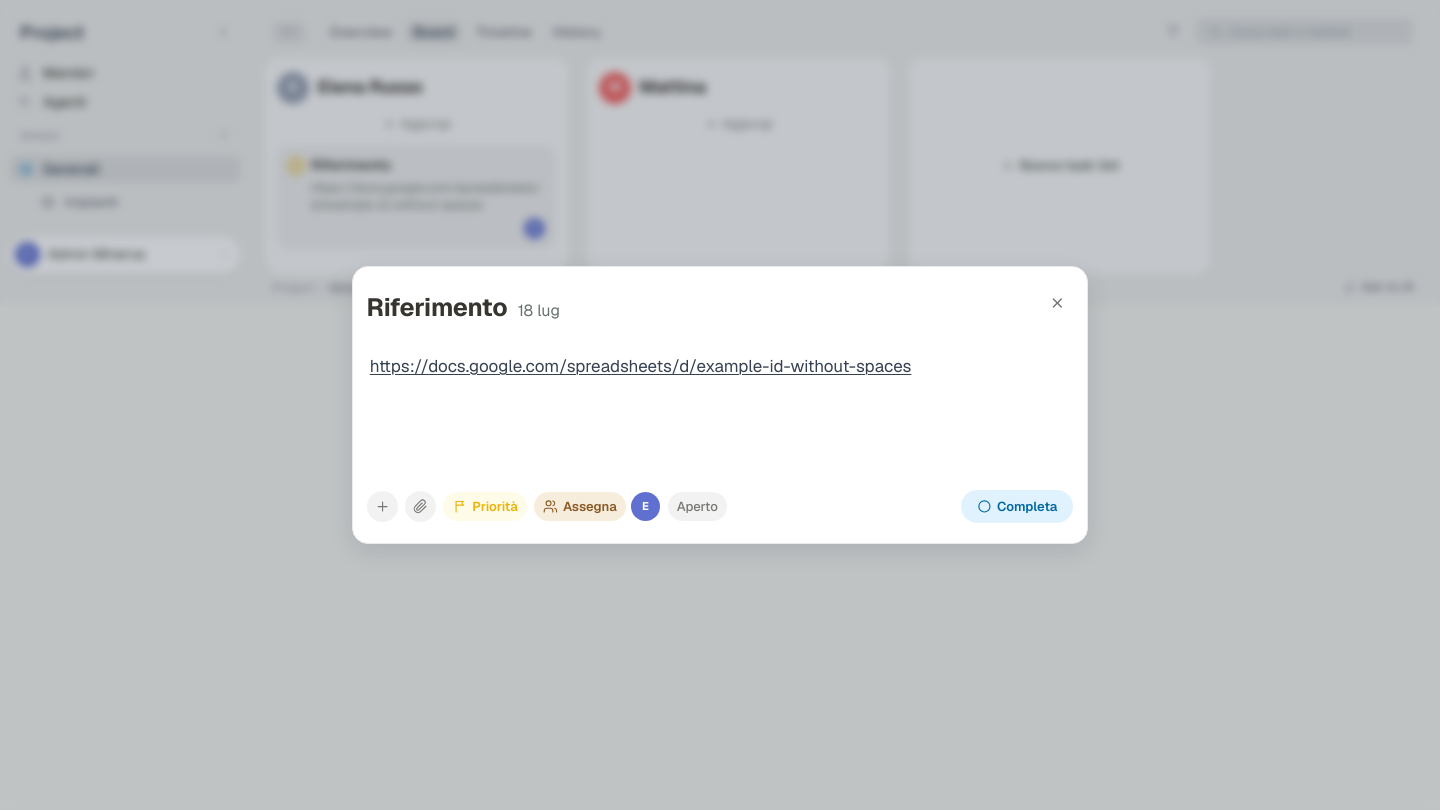
it: board shell › renders note URLs as links only in the open task detail
Click the button with aria-label "Modifica note".
click(641, 366)  # box [370,355,911,377]
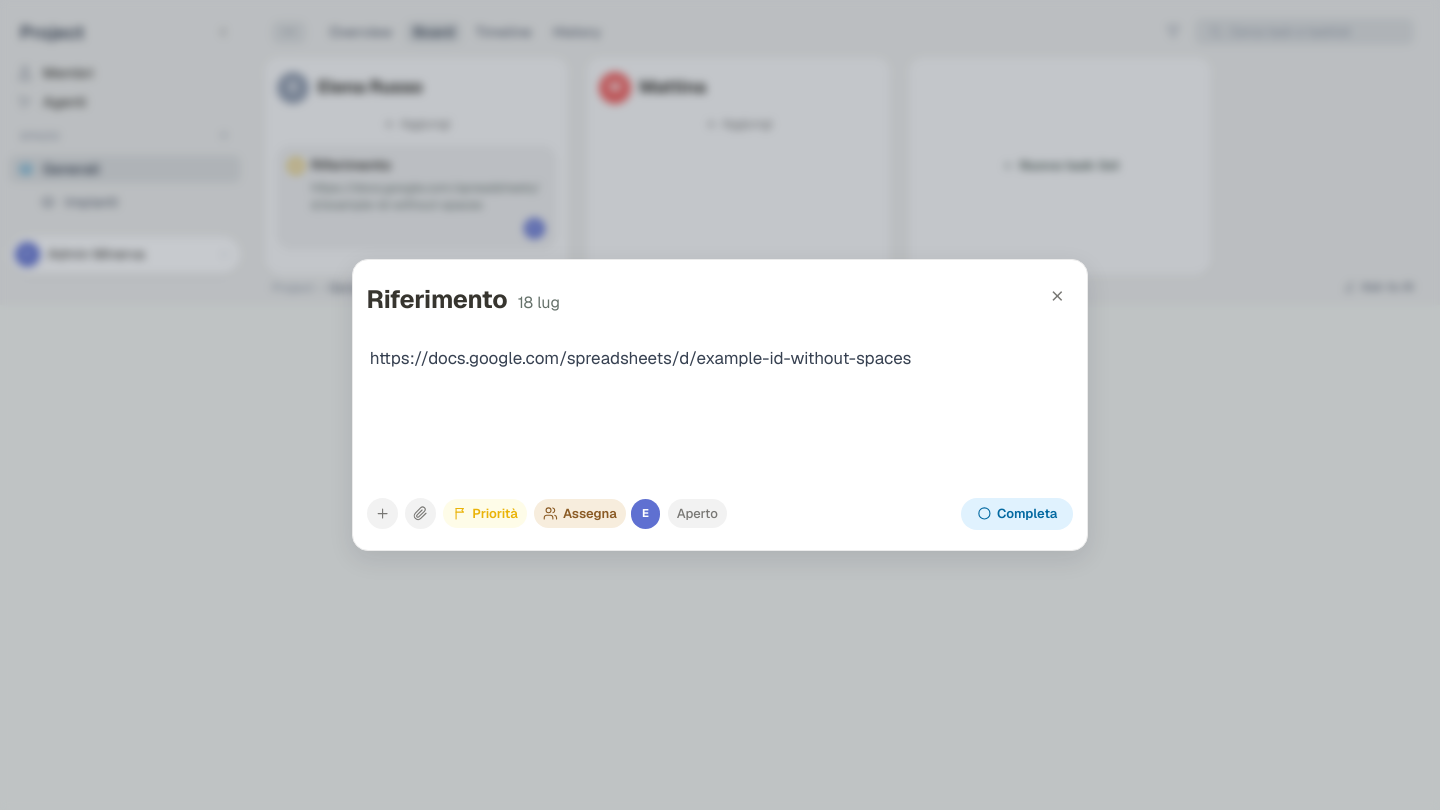
Result: the text box named "Commento" holds "https://docs.google.com/spreadsheets/d/example-id-without-spaces" at [367,344,1073,472]
